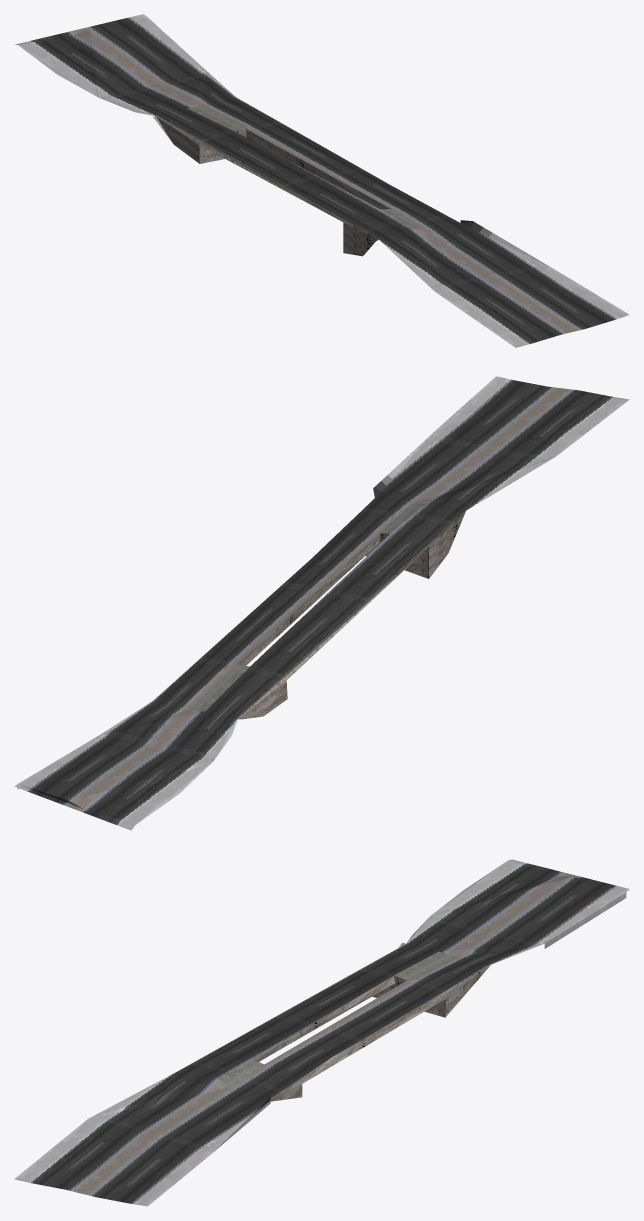
Rendered from lodcunte_roads43.obj.
The picture shows the model from 3 angles, top to bottom: view 1: azimuth 30°, elevation 25°; view 2: azimuth 150°, elevation 25°; view 3: azimuth 330°, elevation 25°; orthographic projection. The views are drawn at different scales.
Parts seen in each view (by area): view 1: LODcunte_roads43; view 2: LODcunte_roads43; view 3: LODcunte_roads43.
Boxes of the visible parts, box(x1,y1,x2,y2) form: LODcunte_roads43: box(15, 14, 629, 347); LODcunte_roads43: box(14, 376, 629, 830); LODcunte_roads43: box(14, 859, 629, 1206).
Bounding box in the file's own units: 42.54 × 18.46 × 271.
Materials: 3 (3 with a texture image).
